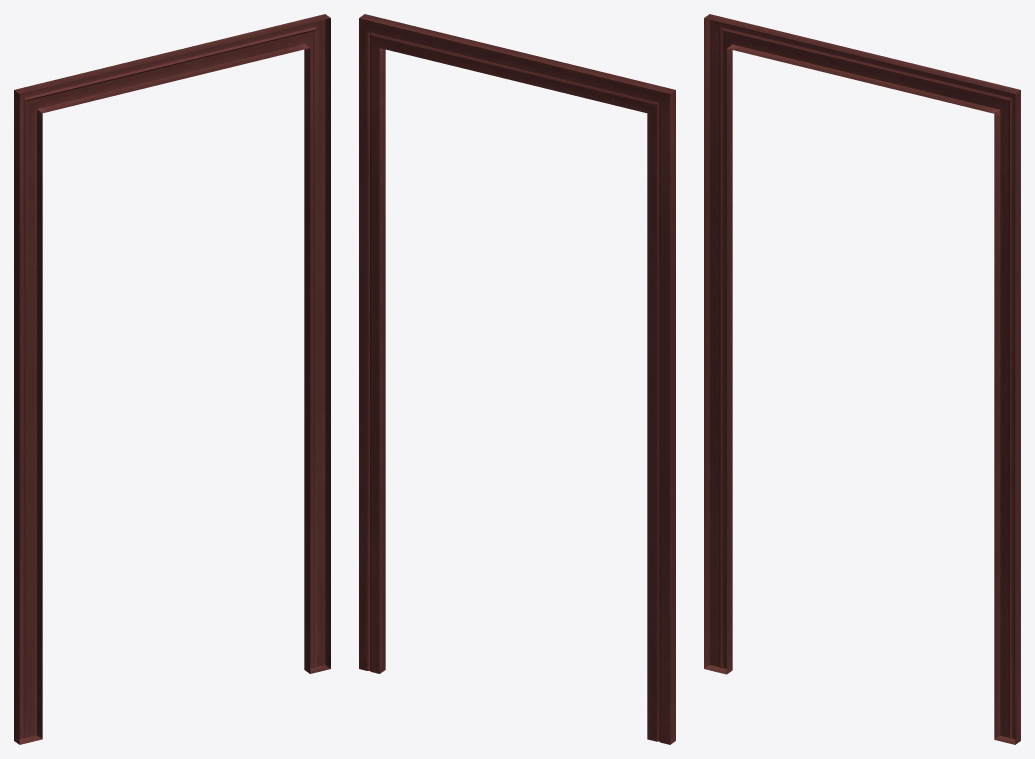
File: SM_Door_Frame.fbx
3 renders of one model, left to right at view 1: azimuth 30°, elevation 25°; view 2: azimuth 150°, elevation 25°; view 3: azimuth 330°, elevation 25°, orthographic.
Parts seen in each view (by area): view 1: SM_Door_Frame_LOD0; view 2: SM_Door_Frame_LOD0; view 3: SM_Door_Frame_LOD0.
Boxes of the visible parts, box(x1,y1,x2,y2) form: SM_Door_Frame_LOD0: box(14, 14, 330, 744); SM_Door_Frame_LOD0: box(359, 14, 675, 744); SM_Door_Frame_LOD0: box(704, 14, 1020, 744).
Size of the model in its own units: 135 by 4.28 by 271.
Materials: 1 (1 with a texture image).
